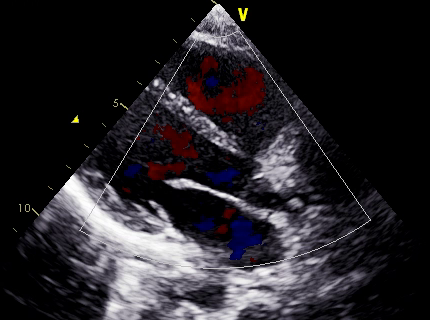AR: (147, 122, 212, 175)
